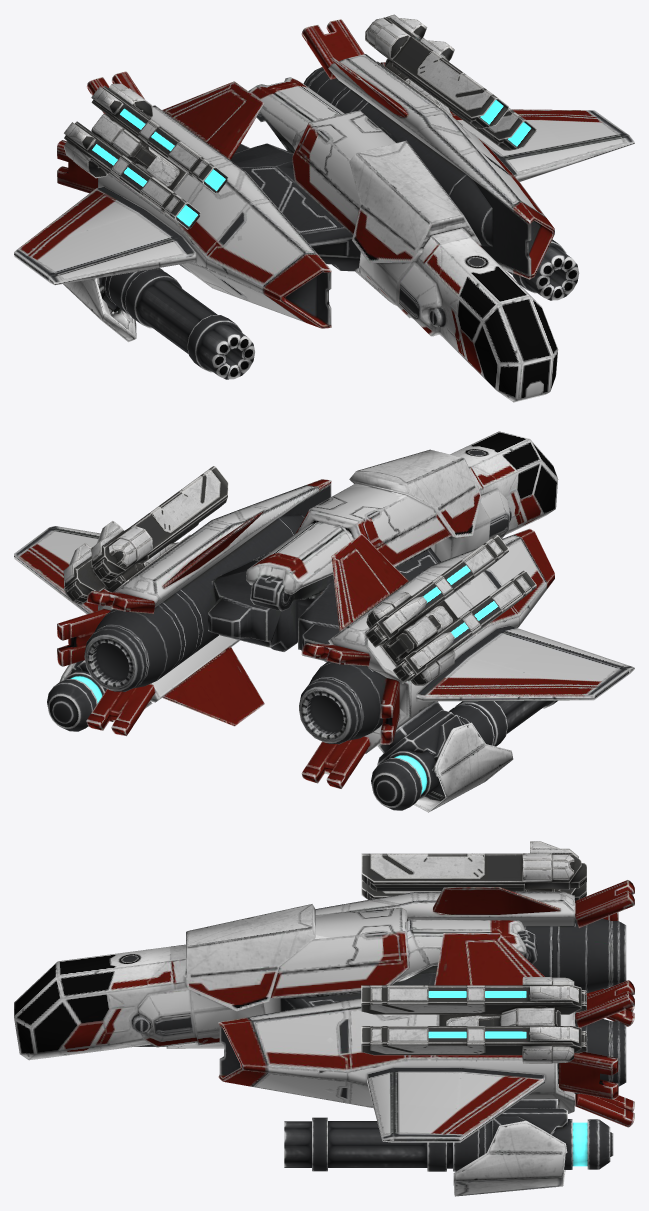
File: spacecraft3.gltf
3 renders of one model, top to bottom at view 1: azimuth 30°, elevation 25°; view 2: azimuth 150°, elevation 25°; view 3: azimuth 270°, elevation 25°, orthographic. The views are drawn at different scales.
Parts seen in each view (by area): view 1: node_PlayerShip2Var1_-7474, node_LaserBarrels_-22148, node_GunBarrel_-20542, node_LaserBarrels_-16262, node_LaserGun2_(1)_-22154, node_GunBarrel_-10516, node_MachineGun2_(1)_-20536, node_LaserGun2_-16256; view 2: node_PlayerShip2Var1_-7474, node_LaserBarrels_-22148, node_LaserBarrels_-16262, node_MachineGun2_(1)_-20536, node_GunBarrel_-20542, node_GunBarrel_-10516, node_LaserGun2_(1)_-22154, node_LaserGun2_-16256; view 3: node_PlayerShip2Var1_-7474, node_LaserBarrels_-16262, node_GunBarrel_-10516, node_LaserBarrels_-22148, node_MachineGun2_-10522, node_LaserGun2_-16256.
Boxes of the visible parts, bbox=[...] form: node_PlayerShip2Var1_-7474: bbox=[14, 19, 634, 402]; node_LaserBarrels_-22148: bbox=[64, 83, 228, 229]; node_GunBarrel_-20542: bbox=[101, 268, 254, 379]; node_LaserBarrels_-16262: bbox=[365, 14, 536, 150]; node_LaserGun2_(1)_-22154: bbox=[91, 113, 186, 191]; node_GunBarrel_-10516: bbox=[507, 239, 579, 300]; node_MachineGun2_(1)_-20536: bbox=[63, 264, 191, 342]; node_LaserGun2_-16256: bbox=[377, 58, 462, 125]; node_PlayerShip2Var1_-7474: bbox=[14, 431, 634, 788]; node_LaserBarrels_-22148: bbox=[365, 535, 536, 685]; node_LaserBarrels_-16262: bbox=[63, 466, 228, 604]; node_MachineGun2_(1)_-20536: bbox=[377, 701, 513, 812]; node_GunBarrel_-20542: bbox=[371, 700, 557, 810]; node_GunBarrel_-10516: bbox=[47, 668, 105, 731]; node_LaserGun2_(1)_-22154: bbox=[379, 600, 457, 666]; node_LaserGun2_-16256: bbox=[91, 534, 190, 592]; node_PlayerShip2Var1_-7474: bbox=[14, 880, 634, 1142]; node_LaserBarrels_-16262: bbox=[361, 977, 586, 1063]; node_GunBarrel_-10516: bbox=[284, 1117, 613, 1171]; node_LaserBarrels_-22148: bbox=[361, 841, 586, 902]; node_MachineGun2_-10522: bbox=[453, 1099, 567, 1196]; node_LaserGun2_-16256: bbox=[439, 1007, 560, 1025].
Size of the model in its own units: 4.43 by 1.55 by 4.29.
3 materials, 3 textured.
